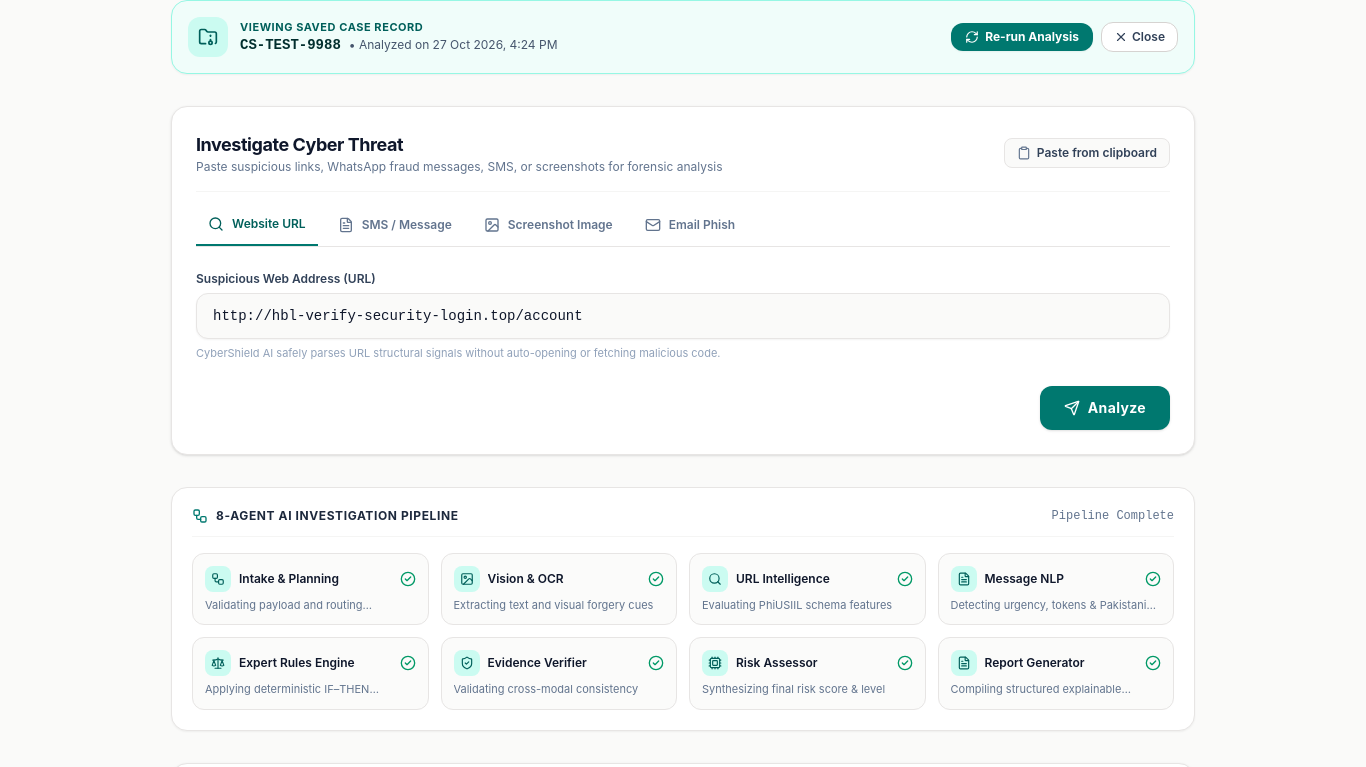
Scenario: Case History & Restore Fidelity › renders Viewing Saved Case banner with Re-run and Close actions
Expected: the text "Viewing Saved Case Record" is shown, [240,20,423,34]
Expected: the text "Re-run Analysis" is shown, [985,29,1079,45]
Switch to message tab to verify restored text
Click the button "SMS / Message" at (395, 231), box [326,216,464,246]
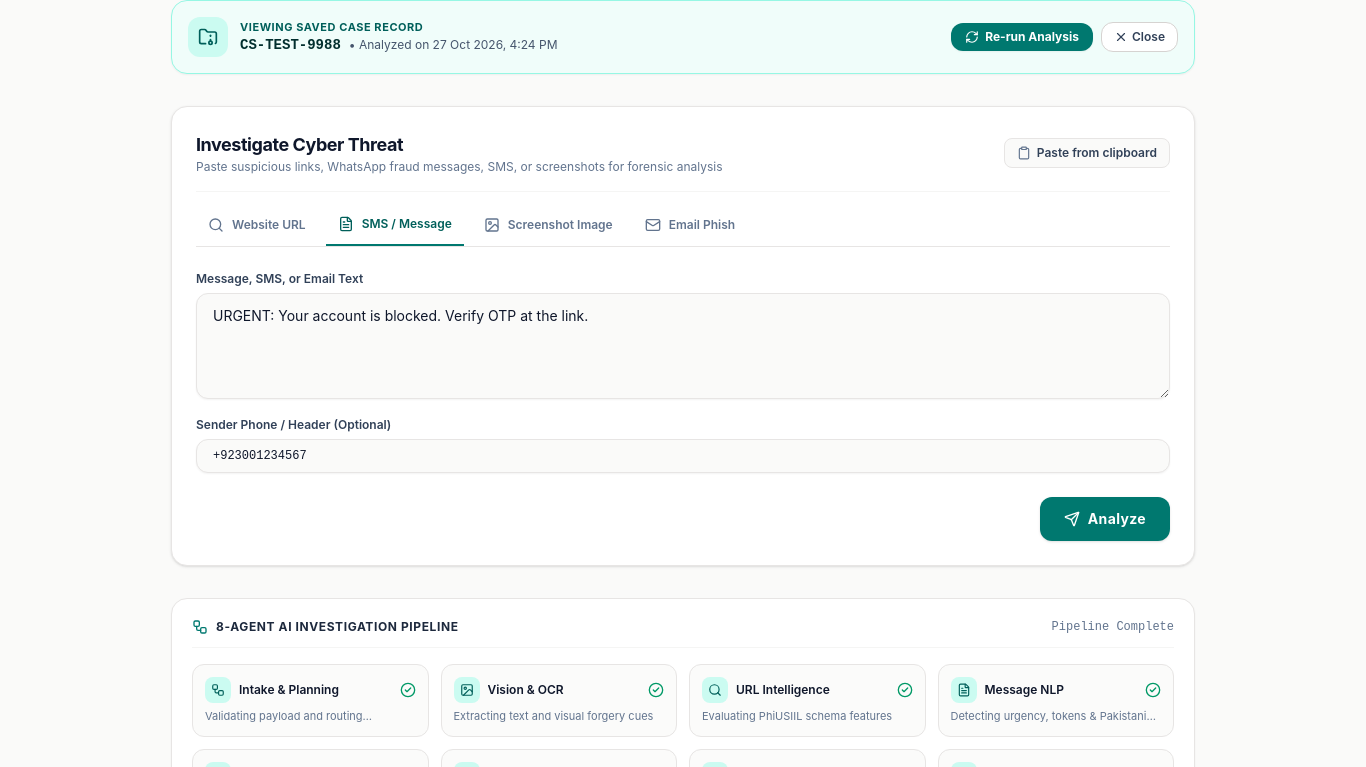
Now the text box with placeholder "Paste suspicious text" holds "URGENT: Your account is blocked. Verify OTP at the link.", box [196,293,1170,399]
